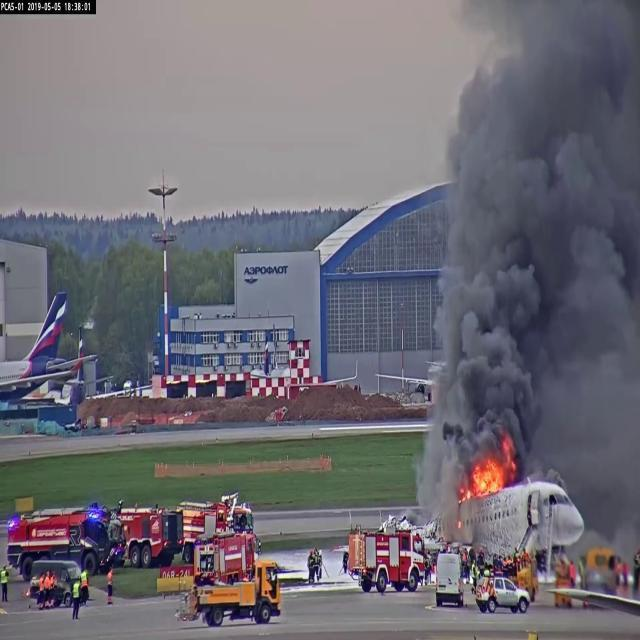Fire: (469, 456, 518, 504)
Smoke: (451, 52, 558, 431)
